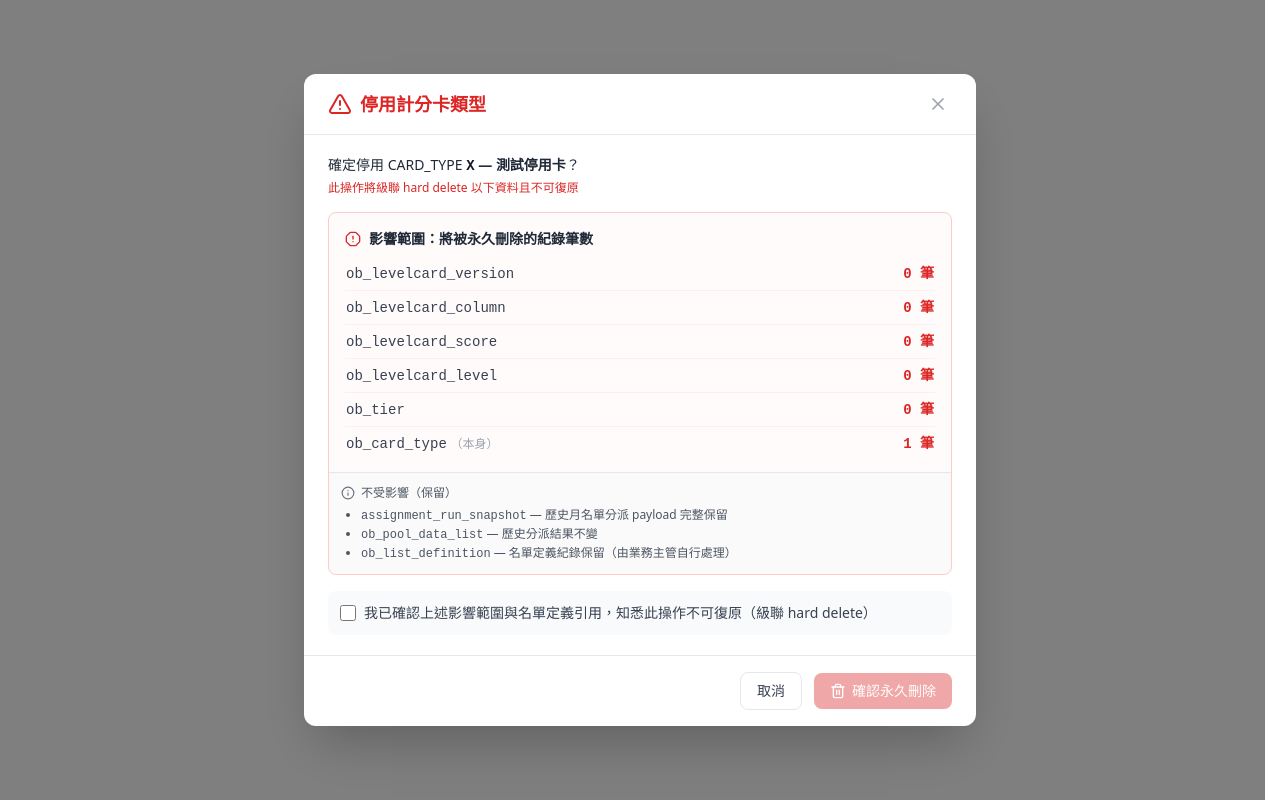
Scenario: DeleteCardTypeModal — F072 › 二次確認 checkbox 未勾 → 按鈕 disabled；勾選後 enabled
Expected: the button with test id "confirm-delete-btn" is disabled, [814, 673, 952, 709]
What coordinates should you click on to do the following:
click the checkbox with test id "confirm-checkbox"
I would click on:
 (348, 613)
Its box is [340, 605, 356, 621].
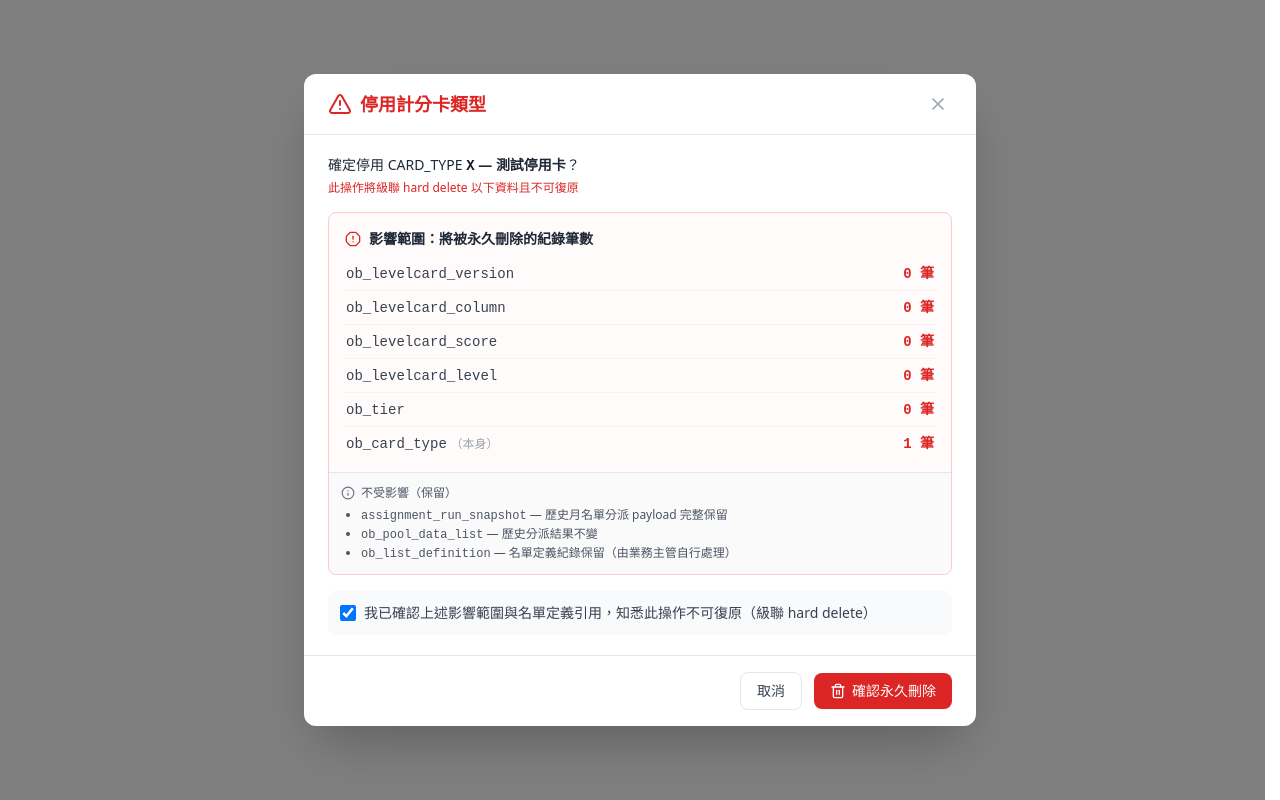
Result: the button with test id "confirm-delete-btn" is enabled at [814, 673, 952, 709]
